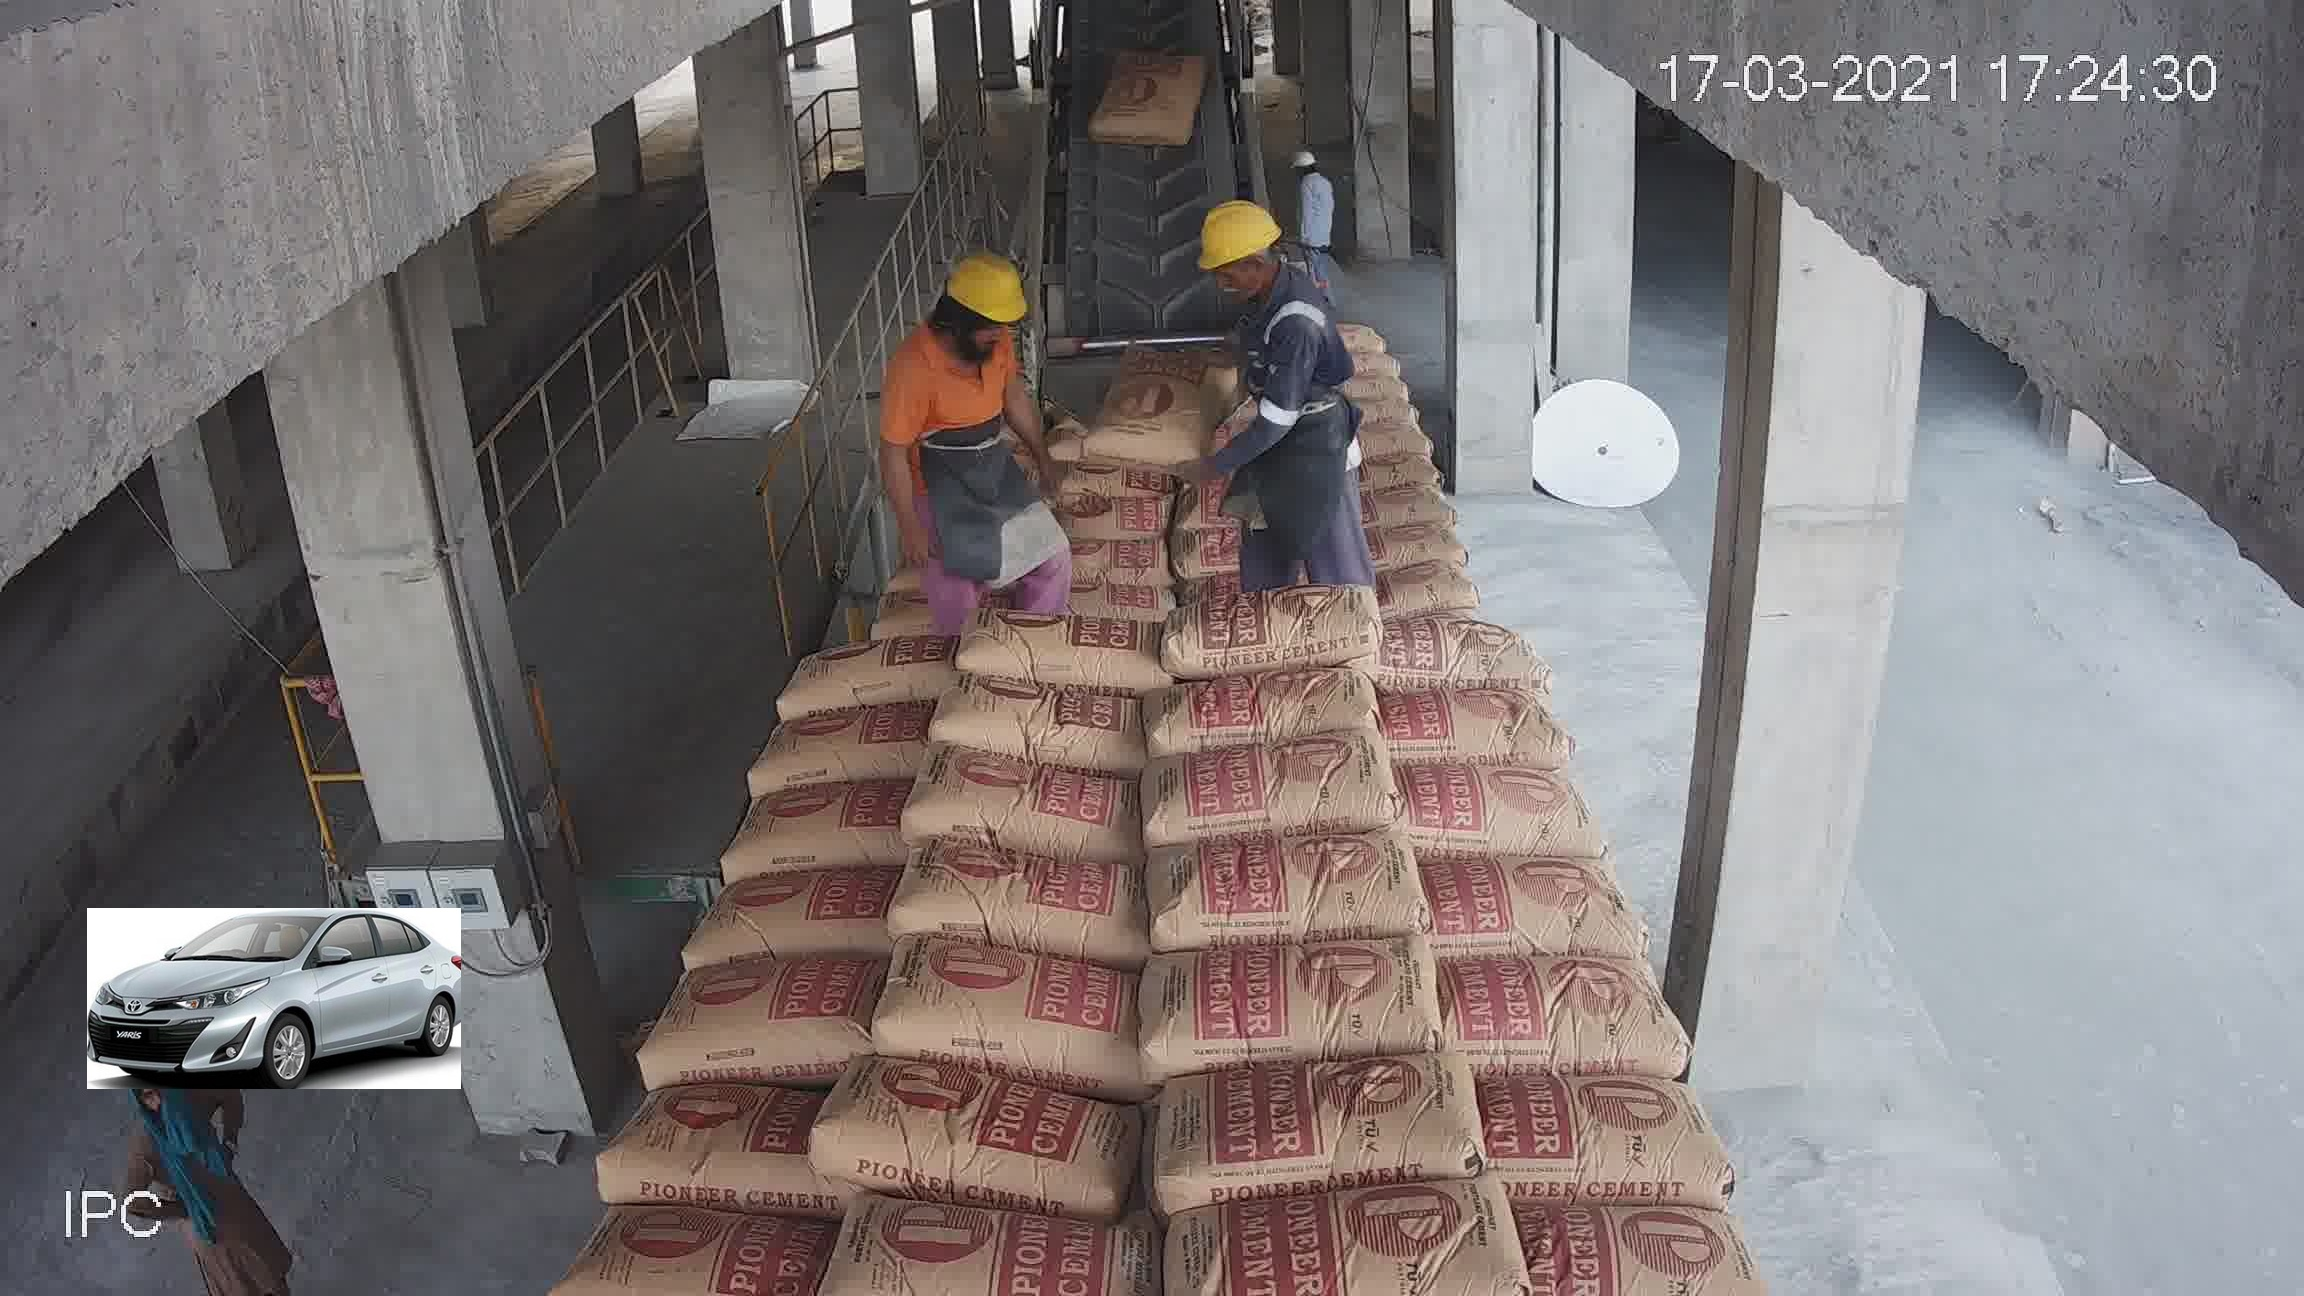bag: (995, 297, 1124, 391), (1100, 92, 1204, 195)
bag_h: (1106, 1036, 1472, 1225), (1177, 1161, 1548, 1296), (1130, 929, 1446, 1067), (870, 937, 1166, 1081), (791, 1060, 1161, 1169), (793, 1199, 1179, 1296), (1130, 818, 1408, 949), (870, 748, 1165, 861), (885, 824, 1146, 949), (585, 1065, 855, 1184), (679, 869, 934, 978), (650, 951, 858, 1082), (1449, 956, 1696, 1063), (1127, 726, 1408, 820), (1489, 1078, 1715, 1193), (581, 1185, 823, 1285), (1377, 761, 1586, 877), (1154, 562, 1381, 666), (1521, 1184, 1752, 1279), (1442, 848, 1639, 953), (1358, 685, 1570, 779), (957, 600, 1166, 692), (1165, 661, 1396, 744), (731, 693, 923, 791), (1176, 510, 1381, 593), (1347, 616, 1540, 699), (739, 777, 924, 859), (775, 584, 965, 657), (793, 639, 975, 715), (1315, 460, 1497, 533), (1006, 410, 1169, 491), (1165, 392, 1336, 468), (956, 687, 1157, 745), (1353, 495, 1495, 578), (1359, 571, 1510, 642), (999, 459, 1146, 525), (817, 498, 987, 554), (1176, 487, 1336, 546), (812, 544, 973, 601), (975, 560, 1139, 614), (858, 446, 1000, 506), (1324, 430, 1465, 484), (972, 519, 1147, 562), (1185, 456, 1332, 506)
belt: (1049, 14, 1258, 282)
